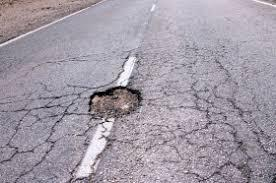alligator-crack: (3, 46, 272, 183)
pothole: (86, 84, 143, 121)
